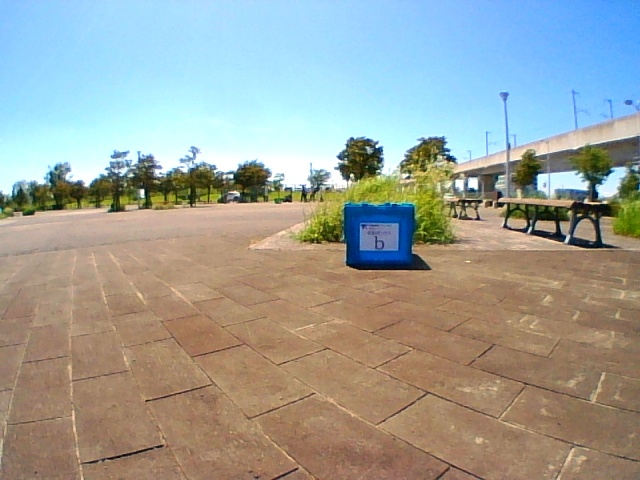blue_box: (347, 205, 412, 262)
tag_b: (361, 223, 397, 250)
